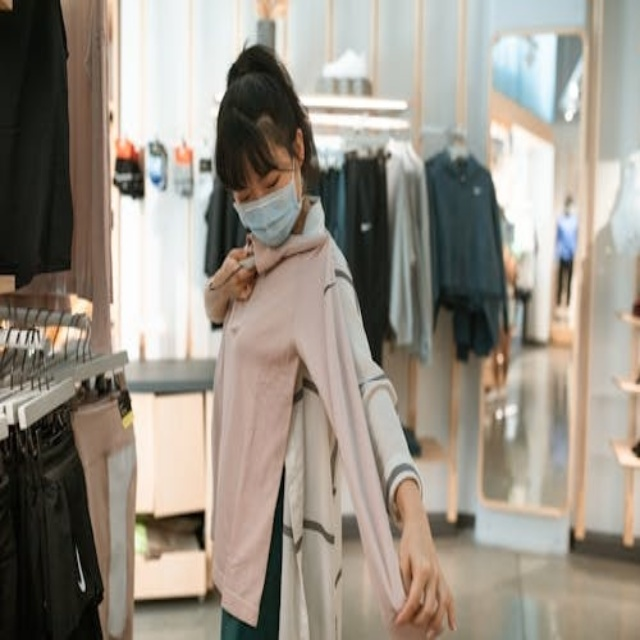Mascara: (233, 155, 304, 247)
Sin_gafas: (233, 154, 294, 198)
Sin_guantes: (388, 511, 466, 636)
